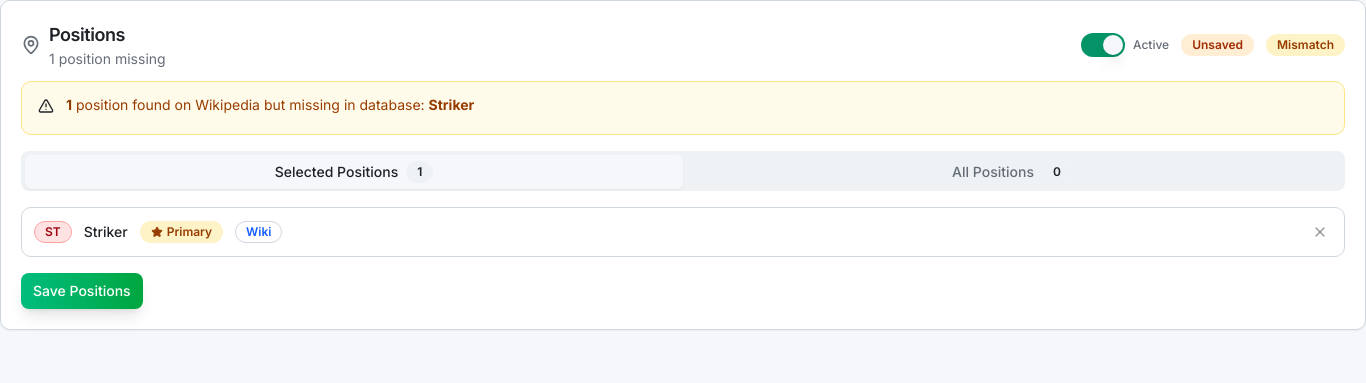
it: PositionCard › shows error state when API call fails
What coordinates should you click on to do the following:
click the button "Save Positions"
I would click on:
 (82, 291)
Its box is 21,273 -> 143,309.
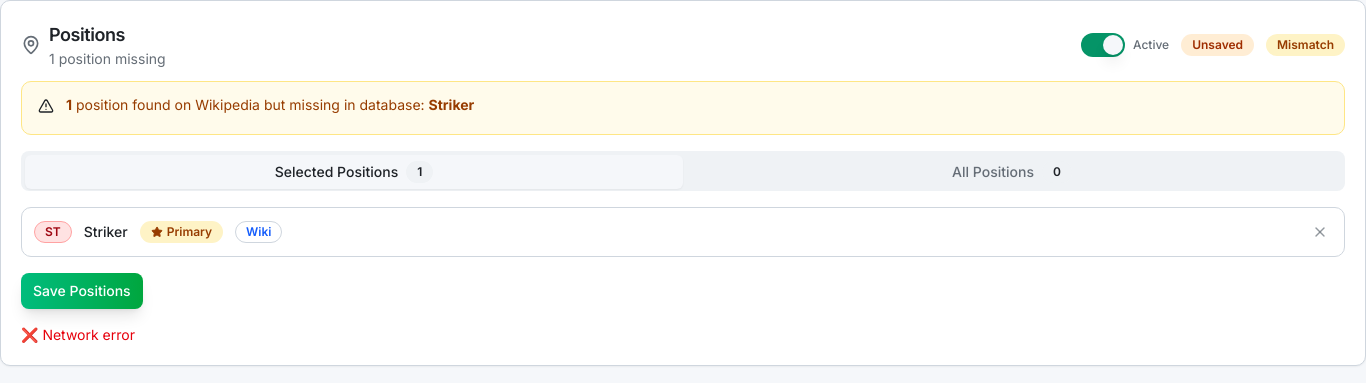
Expected: the text "❌ Network error" is shown, 21,326 -> 135,343
